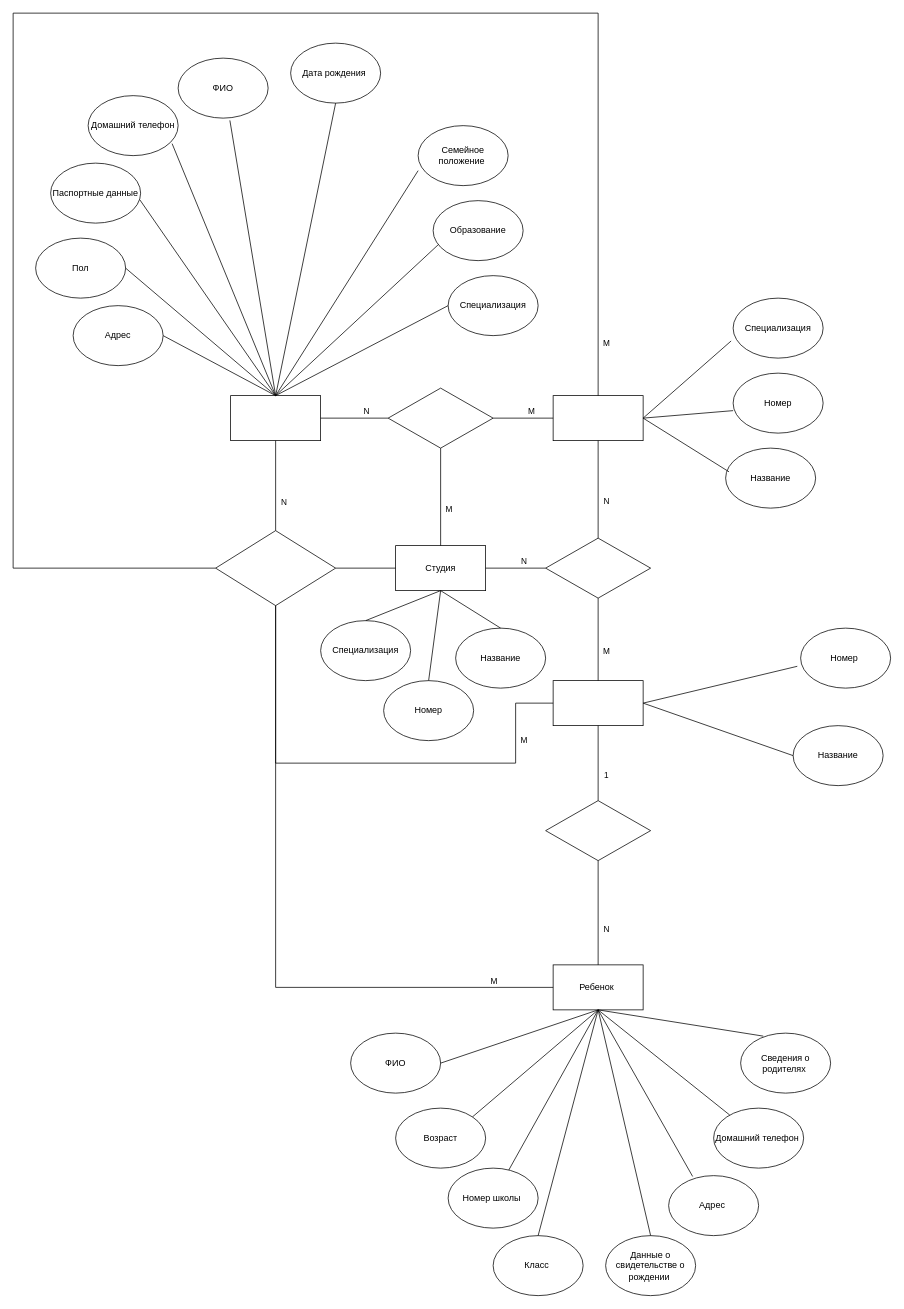
This 904x1309 diagram has some shape labels left out. The box of each missing label's shape, as (x1, y1, x2, y2) in pixels:
Ведет: (387, 387, 493, 448)
Входит: (545, 800, 651, 861)
Группа: (552, 680, 643, 726)
Добавление / редактирование / удаление / просмотр: (215, 530, 336, 606)
Имеет: (545, 537, 651, 598)
Кружок: (552, 395, 643, 441)
Преподаватель: (230, 395, 321, 441)
